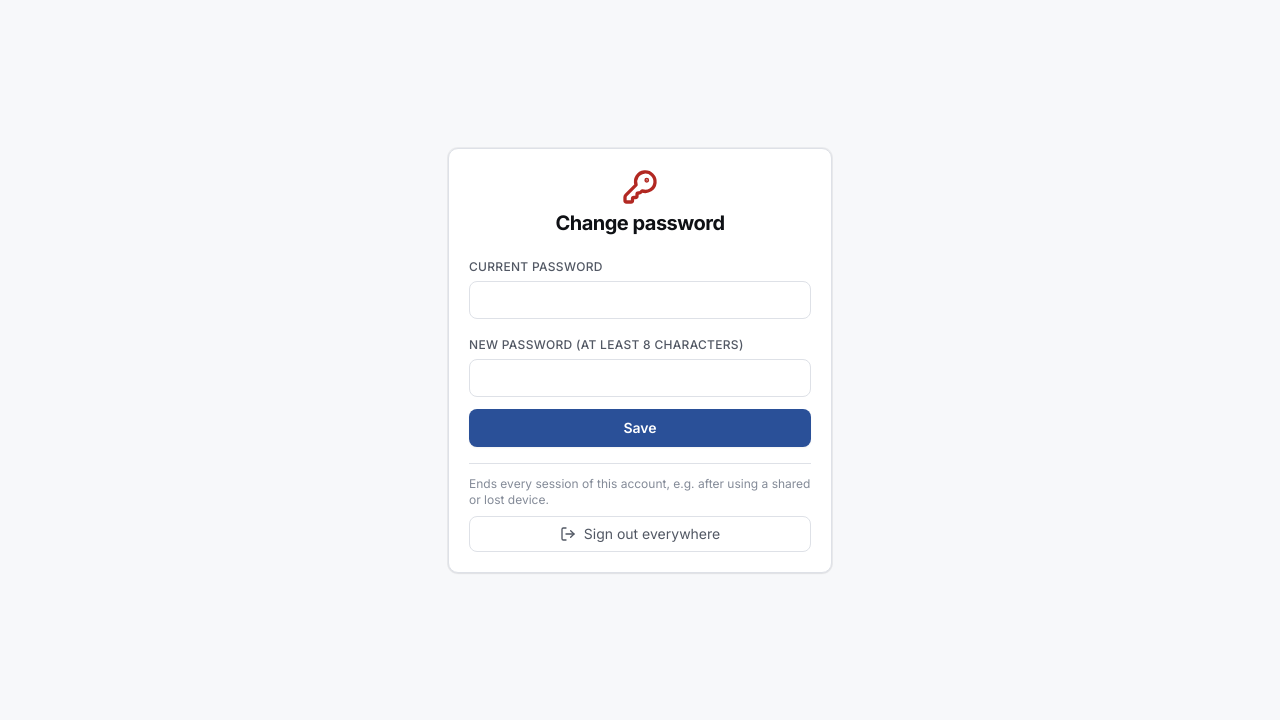
it: sign out everywhere › keeps the session and shows the error when the backend refuses
Click the button "Sign out everywhere" at (640, 534), box [469,516,811,552]
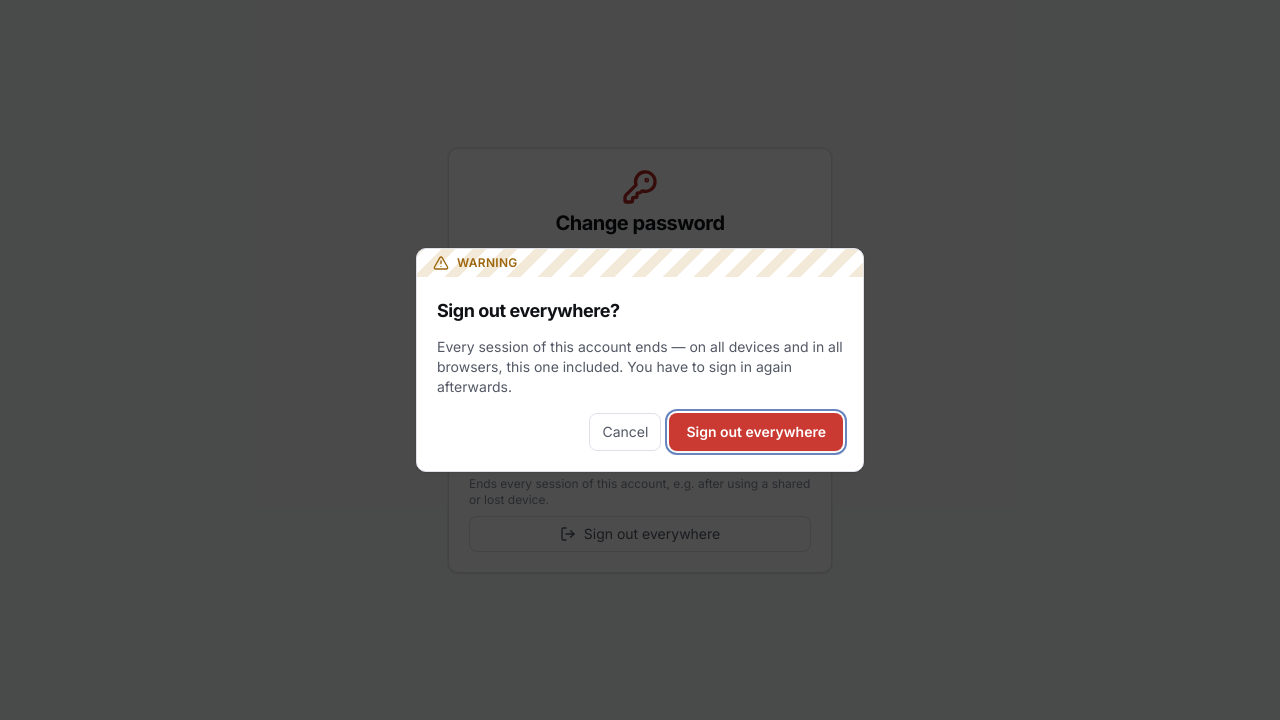
Check: the heading "Sign out everywhere?" is shown, box [437,300,620,321]
Click the button "Sign out everywhere" at (756, 432), box [669,413,843,451]
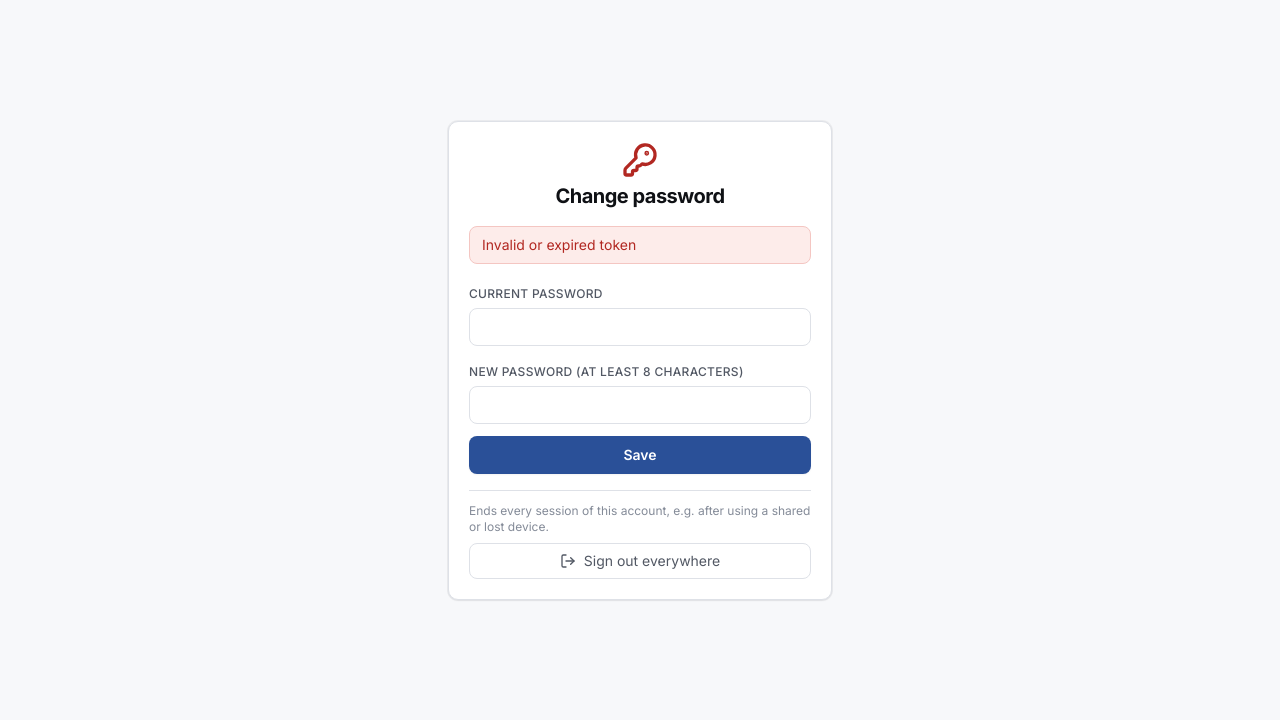
Check: the text "Invalid or expired token" is shown, box [469,226,811,264]
